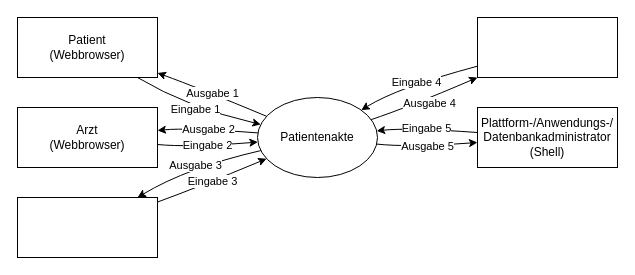
This 635x275 diagram has some shape labels left out. The box of each missing label's shape, as (x1, y1, x2, y2) in pixels:
Externer IDP: (476, 16, 618, 78)
Plattformadministrator (Webbrowser): (16, 196, 158, 258)
